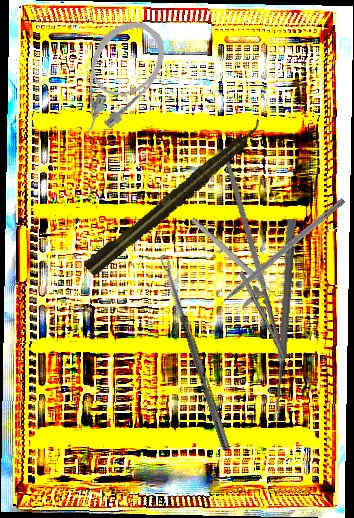Cannula: (51, 8, 179, 149)
Handpiece: (81, 116, 270, 279)
Hook Surgical: (207, 196, 346, 314)
Needle Holder: (186, 157, 310, 365)
Surgical Spoon: (159, 253, 232, 452), (189, 215, 289, 310), (271, 218, 297, 422)
